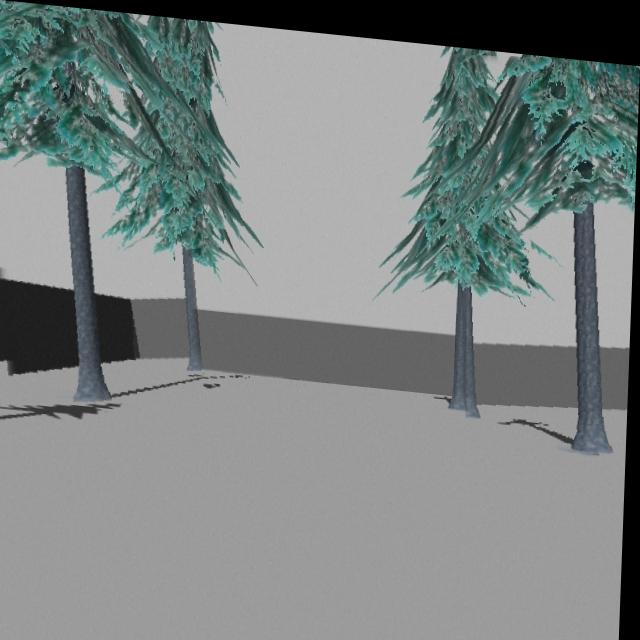tree: (0, 9, 180, 398), (458, 44, 632, 440)
